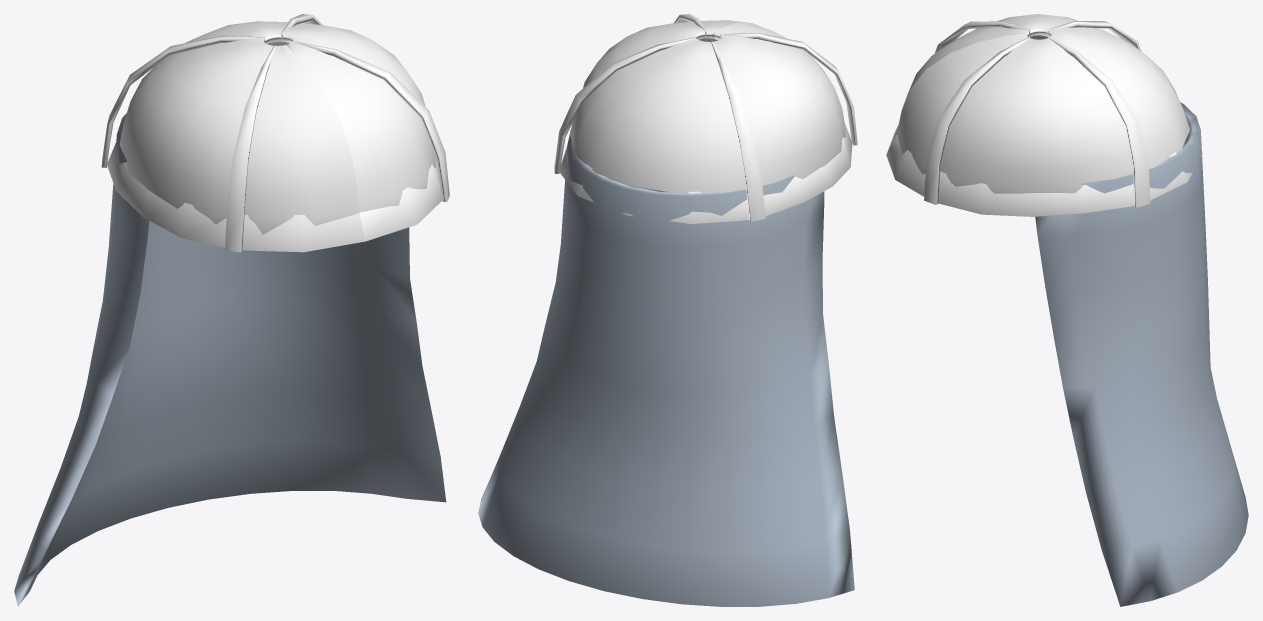
The model's file is helm-huscarl-iron.glb.
The picture shows the model from 3 angles, left to right: view 1: azimuth 30°, elevation 25°; view 2: azimuth 150°, elevation 25°; view 3: azimuth 270°, elevation 25°; orthographic projection. The views are drawn at different scales.
Visible parts, largest first — view 1: helm-huscarl-iron; view 2: helm-huscarl-iron; view 3: helm-huscarl-iron.
Part boxes in pixels (x1=…): helm-huscarl-iron: x1=14, y1=14, x2=449, y2=606; helm-huscarl-iron: x1=478, y1=14, x2=857, y2=606; helm-huscarl-iron: x1=886, y1=14, x2=1248, y2=606.
Bounding box in the file's own units: 0.3753 × 0.4598 × 0.3135.
